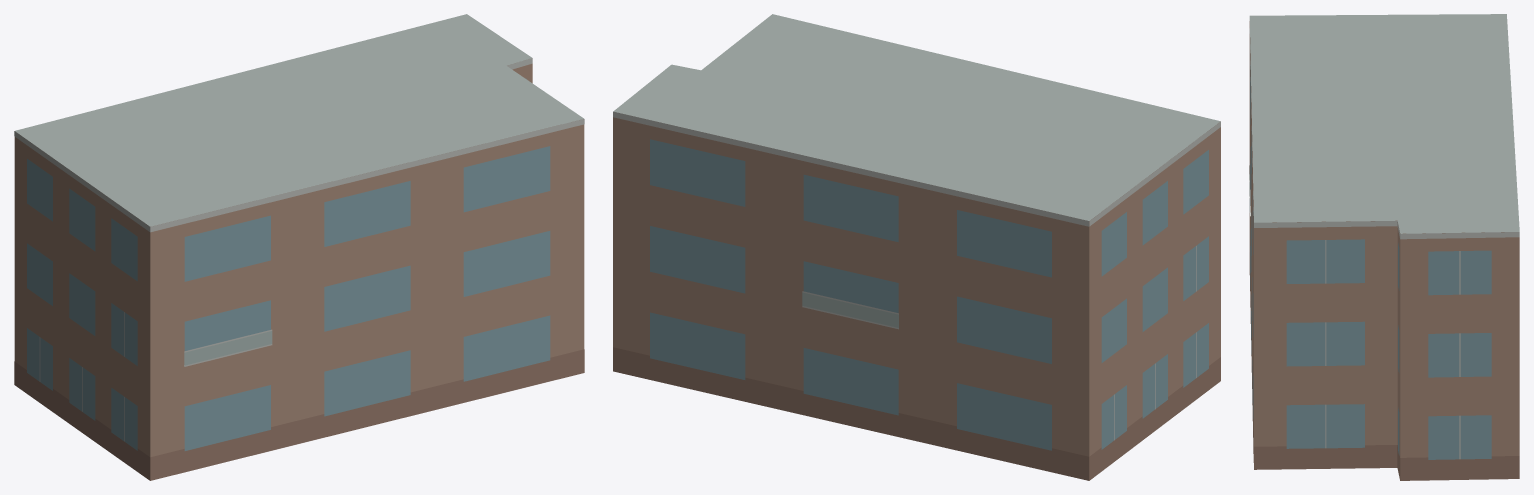
Rendered from survey-upis-33037674.glb.
3 renders of one model, left to right at view 1: azimuth 30°, elevation 25°; view 2: azimuth 150°, elevation 25°; view 3: azimuth 270°, elevation 25°, orthographic. The views are drawn at different scales.
Parts seen in each view (by area): view 1: survey-upis-33037674.tmp; view 2: survey-upis-33037674.tmp; view 3: survey-upis-33037674.tmp.
Boxes of the visible parts, left/top/right/bottom form: survey-upis-33037674.tmp: left=14, top=14, right=584, bottom=480; survey-upis-33037674.tmp: left=613, top=14, right=1220, bottom=480; survey-upis-33037674.tmp: left=1249, top=14, right=1519, bottom=480.
Bounding box in the file's own units: 21.19 × 11.1 × 11.03.
